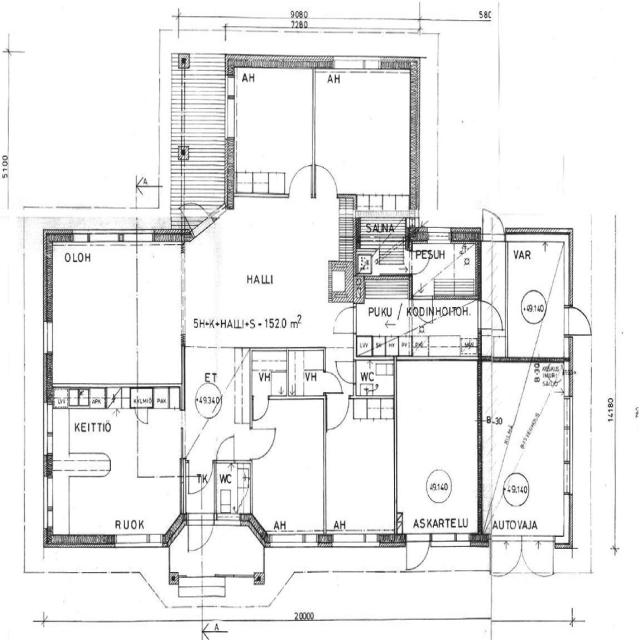door: (403, 531, 433, 574), (498, 535, 528, 577), (187, 511, 215, 554), (248, 422, 278, 461), (324, 393, 351, 433), (313, 160, 340, 200), (182, 463, 212, 498), (330, 301, 358, 338), (563, 303, 593, 336), (288, 160, 314, 198), (482, 208, 506, 244), (478, 300, 503, 332), (214, 432, 238, 463), (334, 356, 357, 386), (321, 368, 344, 396), (250, 392, 271, 422), (409, 249, 432, 276), (134, 404, 150, 426)
window: (265, 528, 321, 551), (185, 201, 219, 235), (112, 530, 166, 551), (176, 248, 189, 333), (331, 528, 382, 549), (331, 54, 384, 74), (430, 528, 475, 550), (560, 403, 574, 473), (41, 398, 56, 460), (41, 472, 56, 530), (224, 84, 239, 142), (86, 227, 128, 247), (199, 200, 227, 228), (41, 317, 55, 358), (177, 409, 188, 459), (214, 512, 244, 530), (561, 456, 574, 496), (425, 226, 452, 243), (178, 407, 186, 431)
zone: (8, 27, 162, 214), (197, 194, 349, 344), (314, 68, 414, 204), (48, 240, 139, 388), (251, 393, 326, 542), (324, 394, 398, 540), (232, 66, 314, 195), (503, 234, 568, 359), (48, 394, 137, 468), (354, 278, 412, 354), (408, 298, 480, 357), (135, 395, 182, 479), (356, 223, 409, 276), (250, 348, 301, 397), (214, 458, 251, 522), (286, 347, 326, 398), (354, 358, 394, 397)
